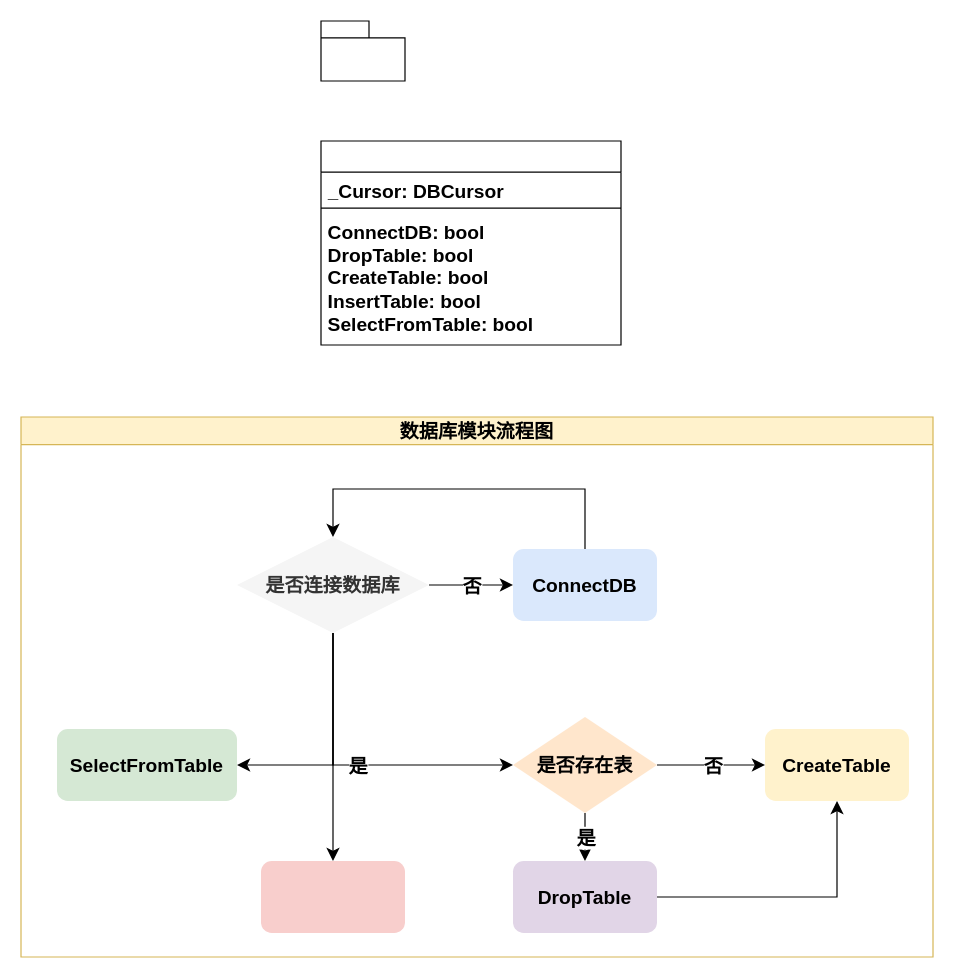
Image size: 954x978. Some labels were removed from this diagram. Each missing label, with the box of its shape:
DataBase: (320, 140, 621, 345)
InsertTable: (260, 860, 404, 932)
pymysql: (320, 20, 405, 81)
